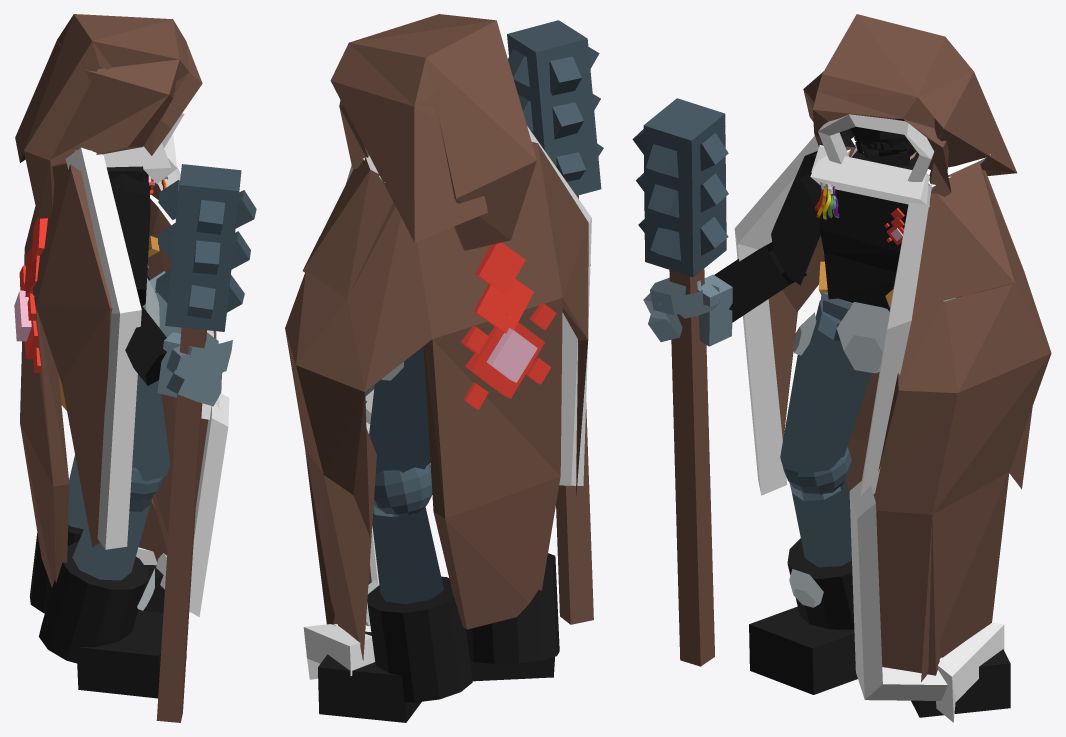
File: Hooded Figure.glb
3 views of the same model, side by side, from view 1: azimuth 30°, elevation 25°; view 2: azimuth 150°, elevation 25°; view 3: azimuth 270°, elevation 25° (orthographic). The views are drawn at different scales.
Visible parts, largest first — view 1: group1698289239, group1044847617, group714015706, group711302610, group183683269, group1059285932, group851561032, group354033116, group1495792002, group1934485478, group1010337579, group988872900 (+16 smaller); view 2: group1698289239, group714015706, group1044847617, group2053041505, group1774172855, group1813068850, group183683269, group422513220, group711302610, group851561032, group930384470, group1025664944 (+4 smaller); view 3: group1698289239, group1044847617, group714015706, group851561032, group1495792002, group711302610, group776546336, group1059285932, group185944298, group354033116, group1934485478, group1617905640 (+10 smaller).
Boxes of the visible parts, box(x1,y1,x2,y2) form: group1698289239: box(20, 163, 216, 587); group1044847617: box(155, 164, 256, 722); group714015706: box(15, 14, 202, 218); group711302610: box(65, 147, 141, 549); group183683269: box(39, 541, 148, 663); group1059285932: box(76, 610, 186, 698); group851561032: box(136, 393, 229, 617); group354033116: box(110, 173, 150, 305); group1495792002: box(132, 374, 170, 480); group1934485478: box(72, 497, 152, 580); group1010337579: box(125, 304, 166, 385); group988872900: box(166, 346, 226, 387); group1698289239: box(285, 142, 588, 660); group714015706: box(330, 14, 536, 250); group1044847617: box(507, 20, 603, 624); group2053041505: box(367, 576, 472, 702); group1774172855: box(369, 346, 430, 474); group1813068850: box(372, 505, 443, 604); group183683269: box(466, 553, 559, 663); group422513220: box(318, 631, 421, 722); group711302610: box(527, 126, 591, 485); group851561032: box(303, 422, 379, 679); group930384470: box(373, 463, 432, 515); group1025664944: box(473, 279, 533, 333); group1698289239: box(768, 161, 1051, 681); group1044847617: box(632, 98, 728, 666); group714015706: box(803, 14, 1016, 196); group851561032: box(849, 480, 1004, 722); group1495792002: box(780, 299, 871, 473); group711302610: box(734, 136, 818, 495); group776546336: box(818, 189, 942, 311); group1059285932: box(749, 606, 857, 694); group185944298: box(860, 184, 932, 496); group354033116: box(771, 151, 826, 285); group1934485478: box(789, 481, 851, 567); group1617905640: box(810, 155, 929, 207).
Bounding box in the file's own units: 0.5024 × 1.43 × 0.8354.
